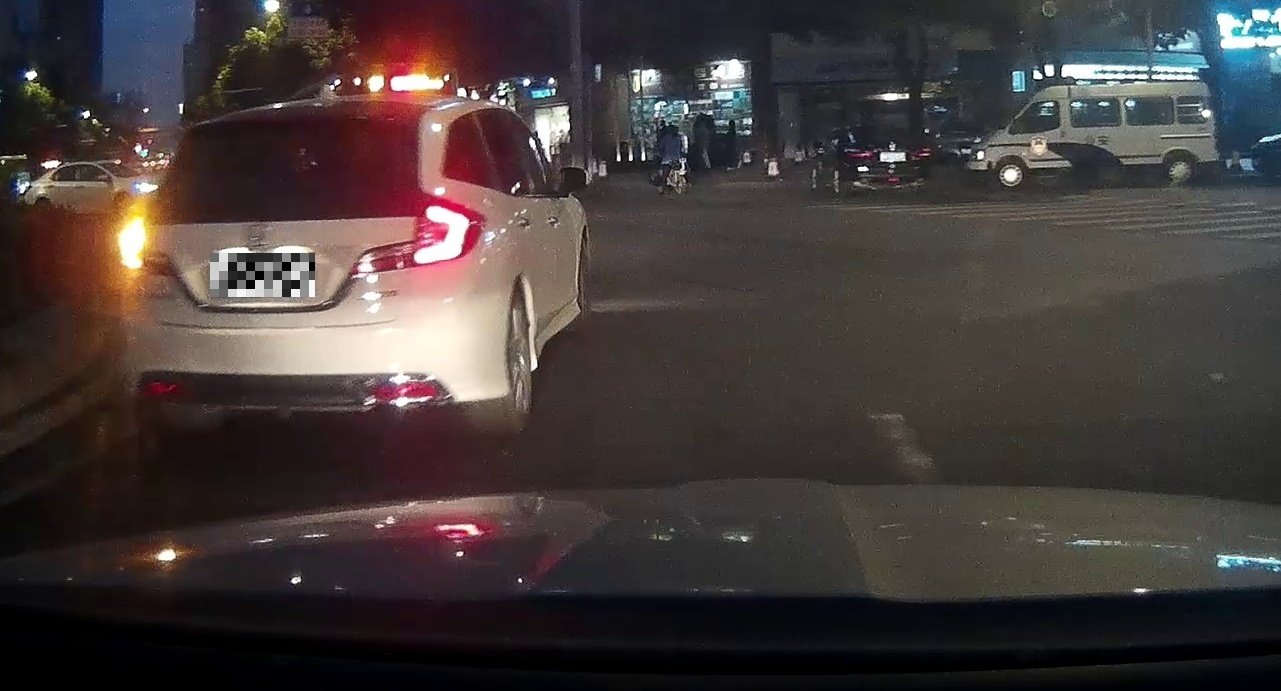L_light: (124, 206, 175, 276)
R_light: (352, 200, 485, 274)
T_light: (285, 119, 343, 128)
night-left: (120, 96, 500, 434)
plate_1: (210, 253, 315, 297)
